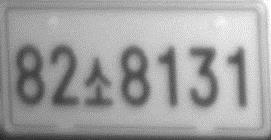1: (226, 43, 248, 109), (156, 44, 179, 107)
2: (49, 43, 80, 106)
3: (188, 45, 218, 108)
8: (119, 44, 150, 106), (15, 43, 45, 105)
소: (83, 57, 113, 106)
